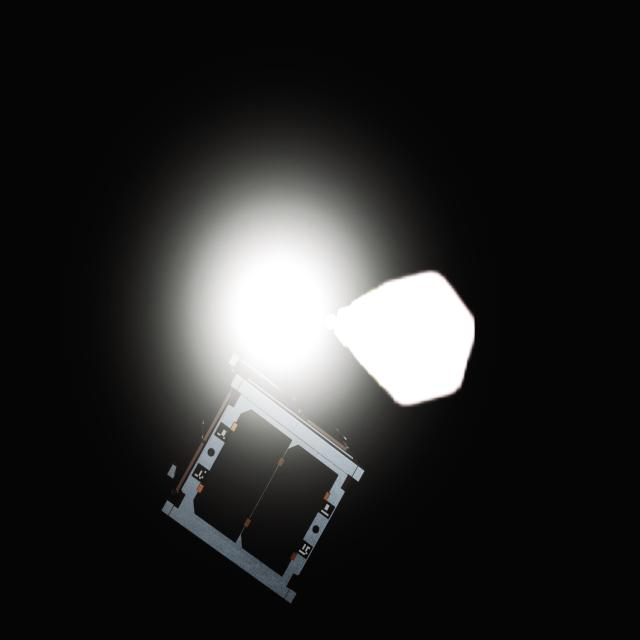satellite: (160, 367, 368, 603)
